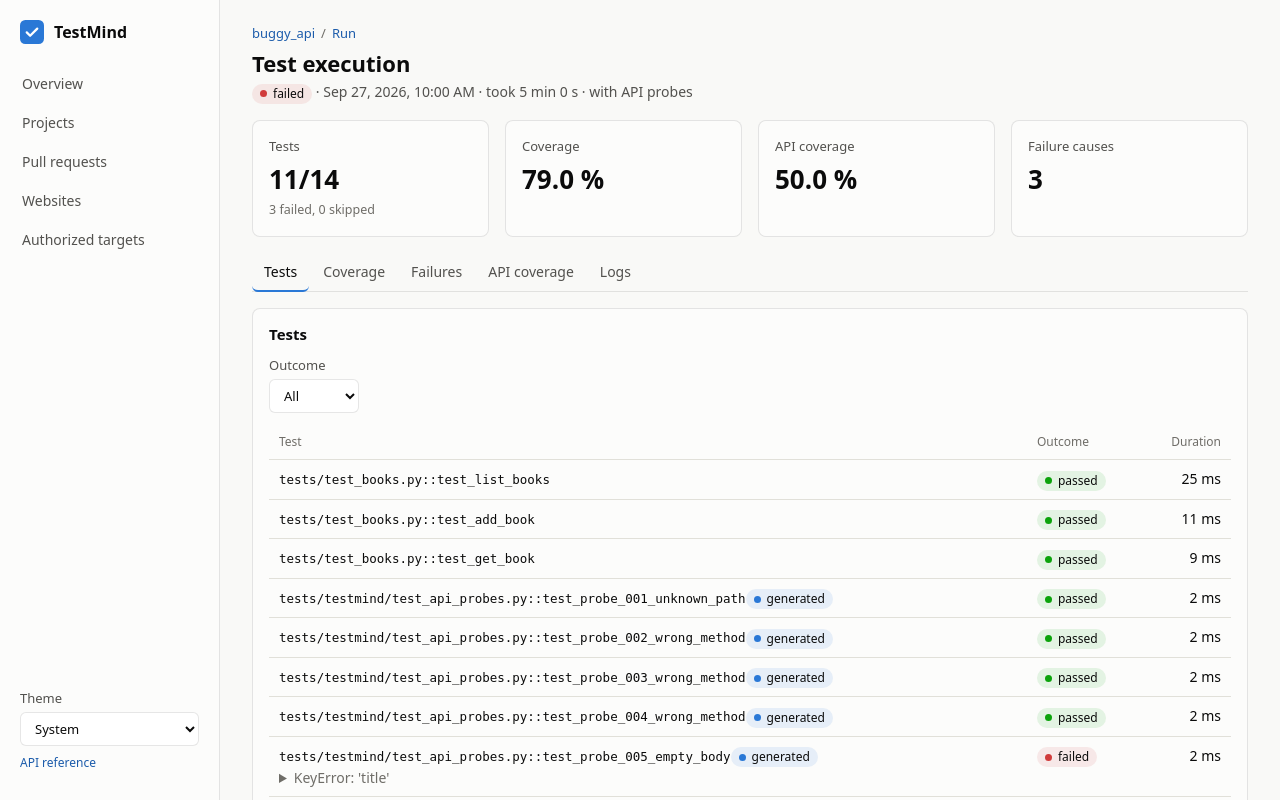
Scenario: Execution › lists tests with their failures and filters by outcome
The width and height of the screenshot is (1280, 800).
Expected: the link "buggy_api" is shown, [252,24,315,44]
Select "failed" in the dropdown labelled "Outcome" at (314, 396), box [269,379,359,413]
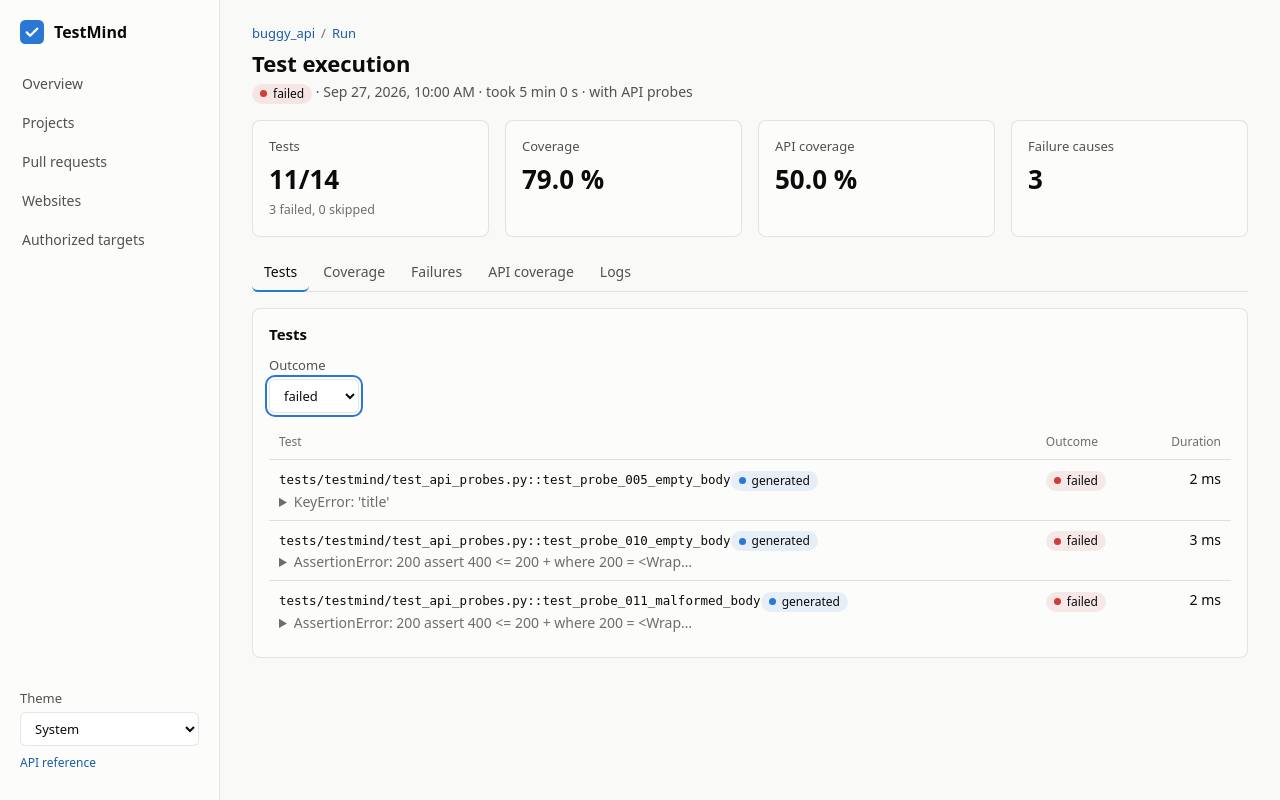
Now the number of rows is 4, box [269,425,1231,460]; [269,460,1231,520]; [269,520,1231,580]; [269,580,1231,640]
